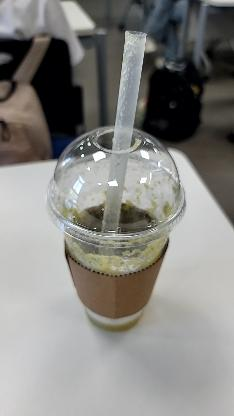Plastic Cup: (40, 128, 186, 336), (93, 30, 146, 254)
